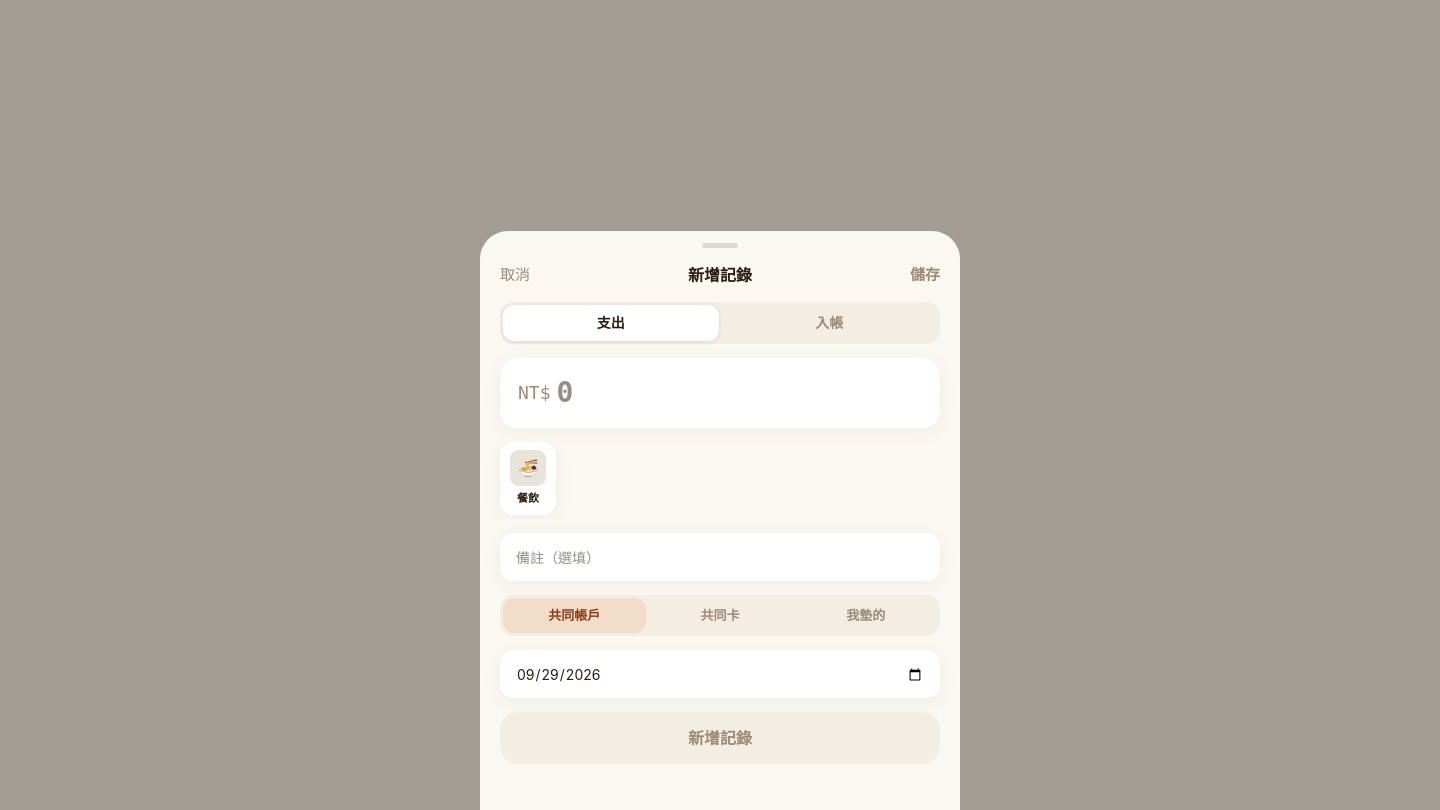
Test: TransactionFormModal › 新增模式 › 切換到入帳後付款方式選項消失
Click the button "入帳" at (829, 323), box [722,305,937,341]
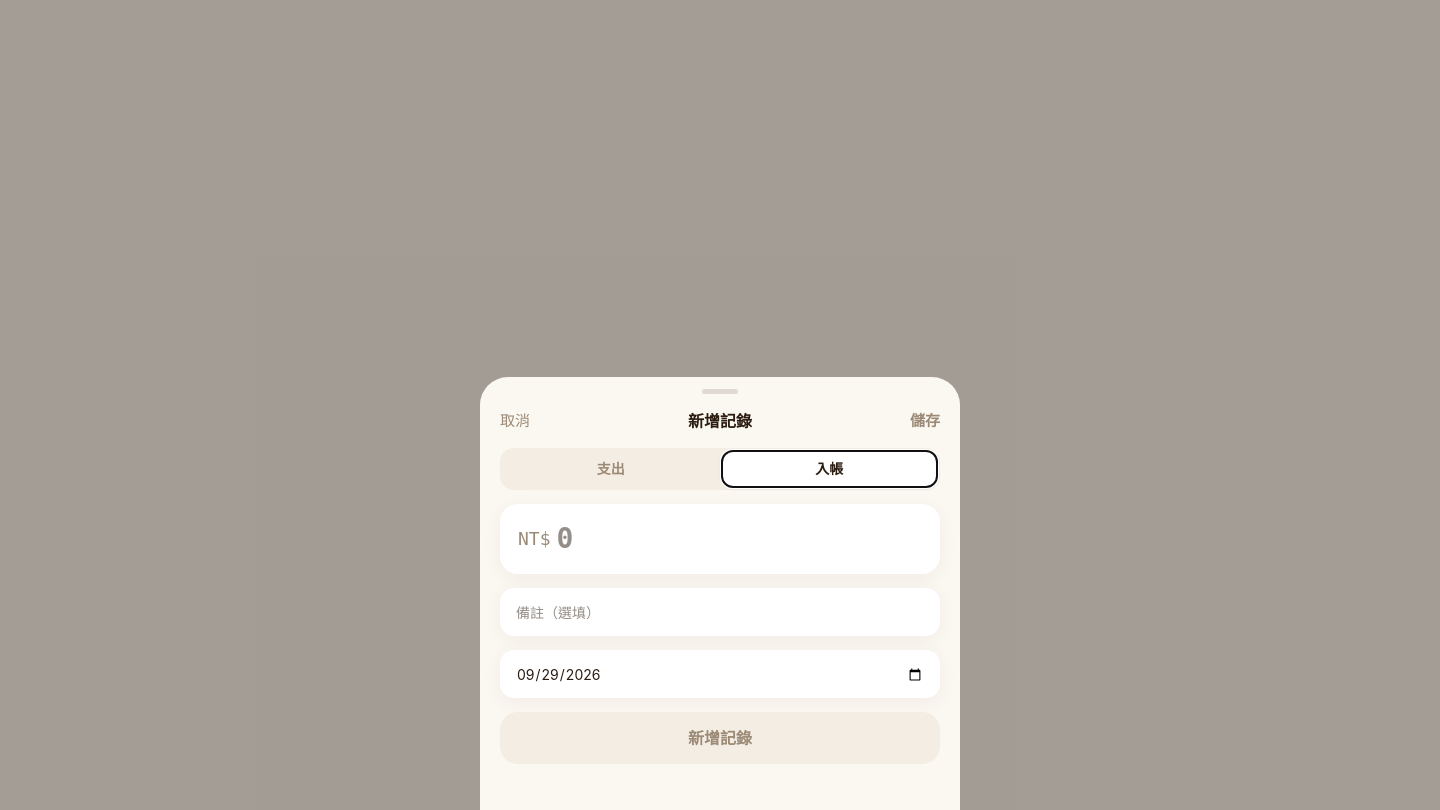
Check: the button "共同帳戶" is gone
Check: the button "共同卡" is gone
